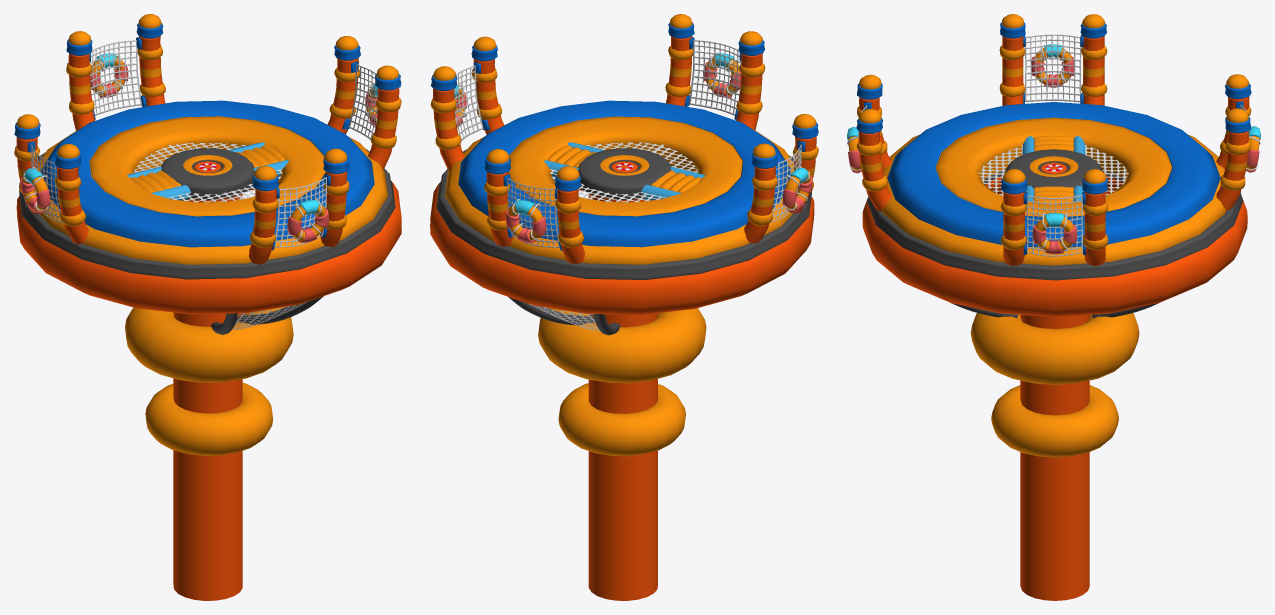
File: RingBig.fbx
The picture shows the model from 3 angles, left to right: view 1: azimuth 30°, elevation 25°; view 2: azimuth 150°, elevation 25°; view 3: azimuth 270°, elevation 25°; orthographic projection.
Visible parts, largest first — view 1: polySurface6, polySurface2, polySurface1, polySurface23, polySurface3, polySurface25, polySurface115, polySurface92, polySurface72, polySurface53, polySurface35, polySurface103 (+13 smaller); view 2: polySurface6, polySurface2, polySurface1, polySurface23, polySurface3, polySurface25, polySurface115, polySurface92, polySurface26, polySurface100, polySurface56, polySurface78 (+13 smaller); view 3: polySurface6, polySurface2, polySurface1, polySurface23, polySurface3, polySurface115, polySurface25, polySurface92, polySurface47, polySurface32, polySurface81, polySurface100 (+8 smaller).
Part boxes in pixels (bbox=[...]): polySurface6: bbox=[41, 100, 374, 247]; polySurface2: bbox=[16, 181, 401, 314]; polySurface1: bbox=[173, 194, 242, 600]; polySurface23: bbox=[125, 307, 293, 382]; polySurface3: bbox=[19, 149, 395, 279]; polySurface25: bbox=[145, 383, 272, 455]; polySurface115: bbox=[38, 129, 387, 264]; polySurface92: bbox=[161, 148, 254, 199]; polySurface72: bbox=[89, 40, 141, 115]; polySurface53: bbox=[54, 153, 88, 244]; polySurface35: bbox=[249, 175, 278, 264]; polySurface103: bbox=[368, 74, 401, 169]; polySurface6: bbox=[458, 100, 790, 247]; polySurface2: bbox=[430, 181, 814, 314]; polySurface1: bbox=[588, 194, 657, 600]; polySurface23: bbox=[538, 307, 706, 383]; polySurface3: bbox=[436, 149, 811, 280]; polySurface25: bbox=[558, 383, 685, 456]; polySurface115: bbox=[445, 129, 793, 264]; polySurface92: bbox=[578, 148, 671, 199]; polySurface26: bbox=[689, 40, 740, 115]; polySurface100: bbox=[431, 74, 464, 169]; polySurface56: bbox=[744, 152, 777, 243]; polySurface78: bbox=[555, 175, 585, 263]; polySurface6: bbox=[887, 102, 1220, 247]; polySurface2: bbox=[862, 175, 1247, 316]; polySurface1: bbox=[1020, 315, 1089, 600]; polySurface23: bbox=[970, 313, 1139, 384]; polySurface3: bbox=[867, 145, 1243, 280]; polySurface115: bbox=[882, 134, 1226, 265]; polySurface25: bbox=[991, 385, 1118, 457]; polySurface92: bbox=[1001, 149, 1103, 187]; polySurface47: bbox=[1025, 34, 1081, 102]; polySurface32: bbox=[856, 118, 891, 210]; polySurface81: bbox=[1216, 117, 1250, 210]; polySurface100: bbox=[1082, 177, 1107, 266].
Size of what is drawn, in the model's own units: 3217 by 4228 by 3217.
